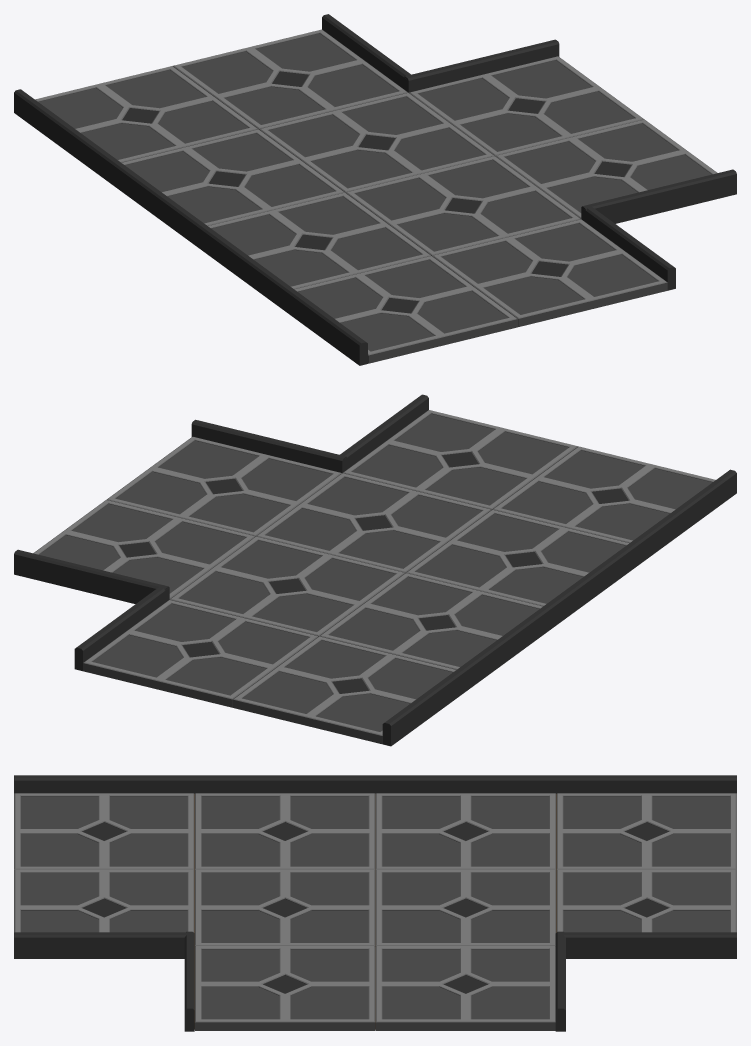
The model's file is Stone_Path_TPart.fbx.
3 views of the same model, one above another, from view 1: azimuth 30°, elevation 25°; view 2: azimuth 150°, elevation 25°; view 3: azimuth 270°, elevation 25° (orthographic). The views are drawn at different scales.
Parts seen in each view (by area): view 1: Stone_Path_TPart; view 2: Stone_Path_TPart; view 3: Stone_Path_TPart.
Boxes of the visible parts, <box> form: Stone_Path_TPart: <box>14,14,736,365</box>; Stone_Path_TPart: <box>14,394,736,746</box>; Stone_Path_TPart: <box>14,775,736,1031</box>.
Size of the model in its own units: 365 by 16.76 by 476.
